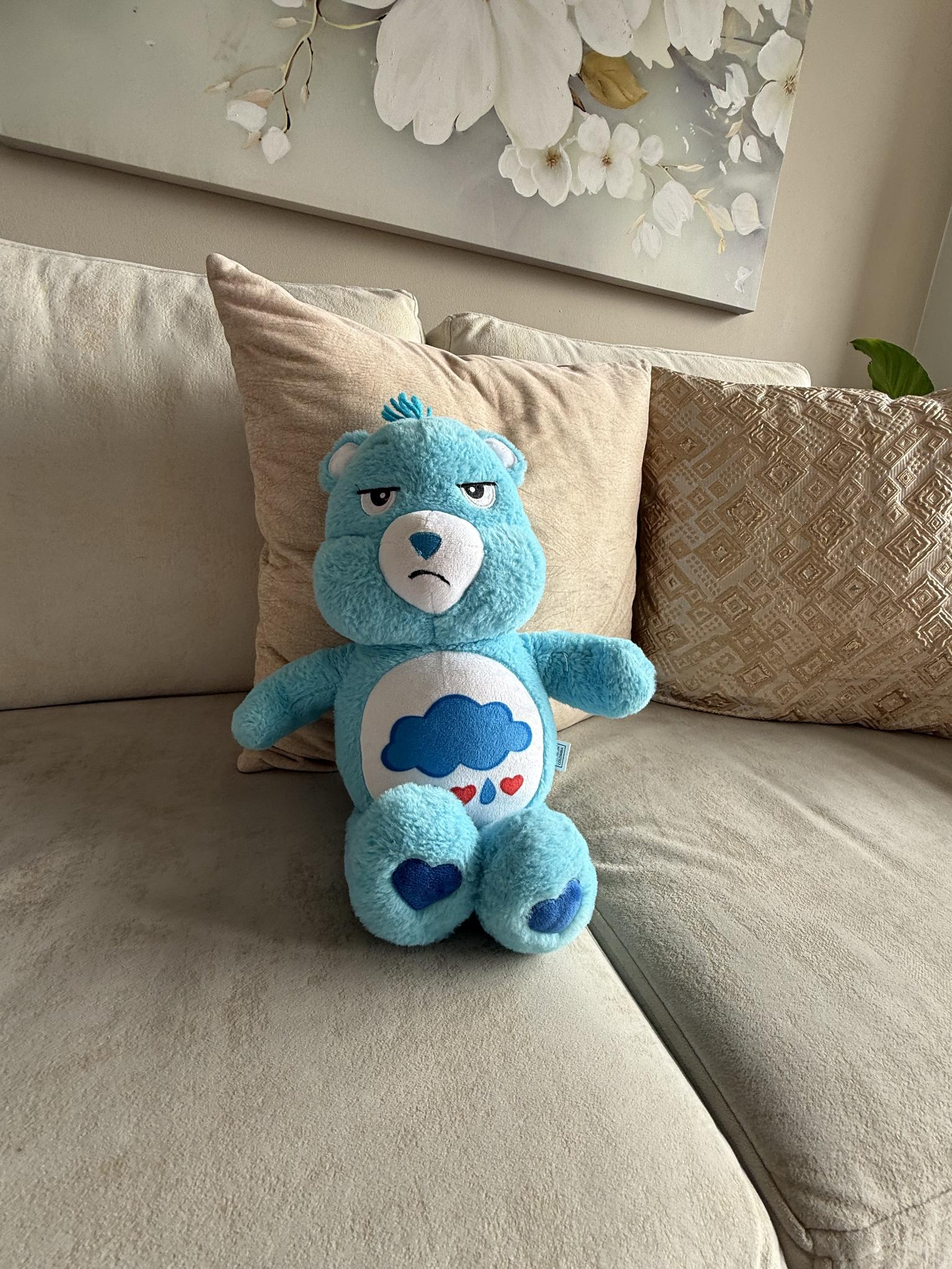peluche_Juan Jose: (312, 428, 642, 955)
